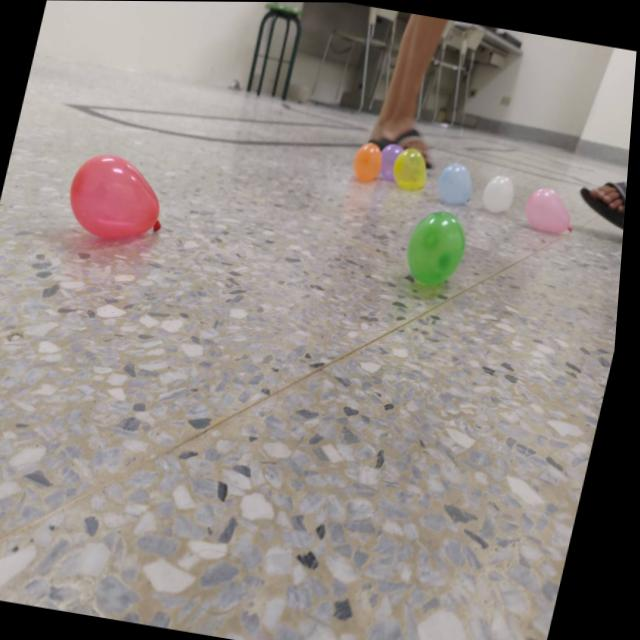other: (404, 205, 476, 290), (523, 185, 586, 236), (391, 145, 437, 192), (436, 160, 481, 207), (482, 170, 523, 216), (351, 140, 388, 183), (377, 141, 407, 183)
red: (63, 149, 181, 251)
